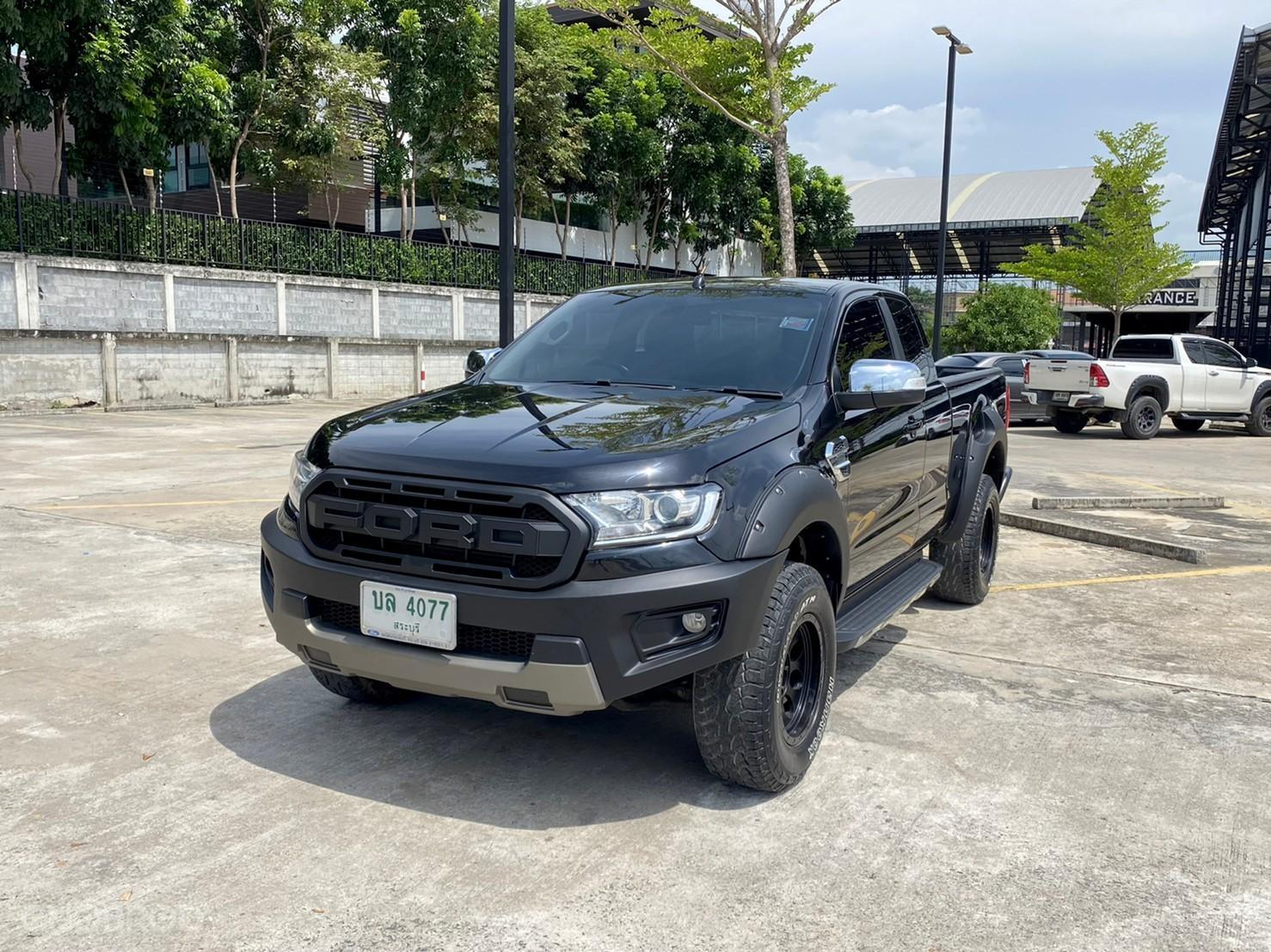license-plate: (356, 573, 461, 654)
